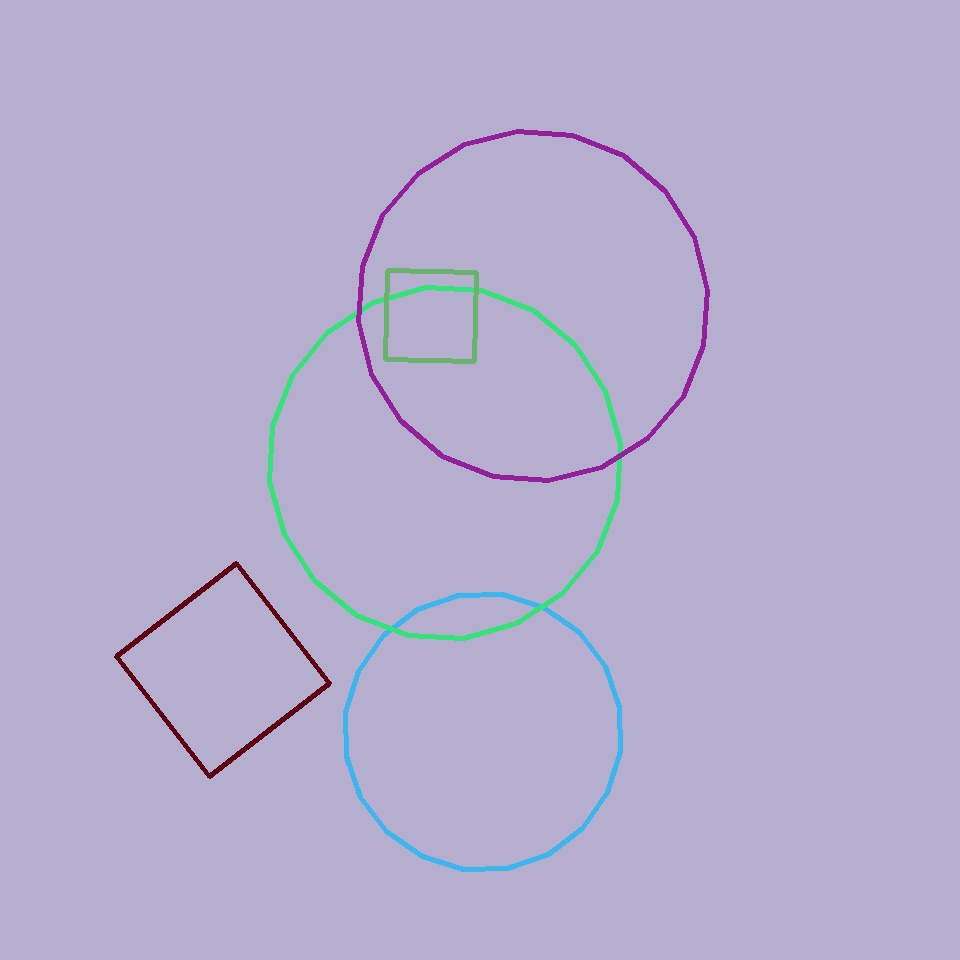square: (117, 564, 330, 776), (386, 270, 476, 362)
triangle: (270, 288, 620, 638), (358, 132, 708, 480), (346, 594, 620, 869)
